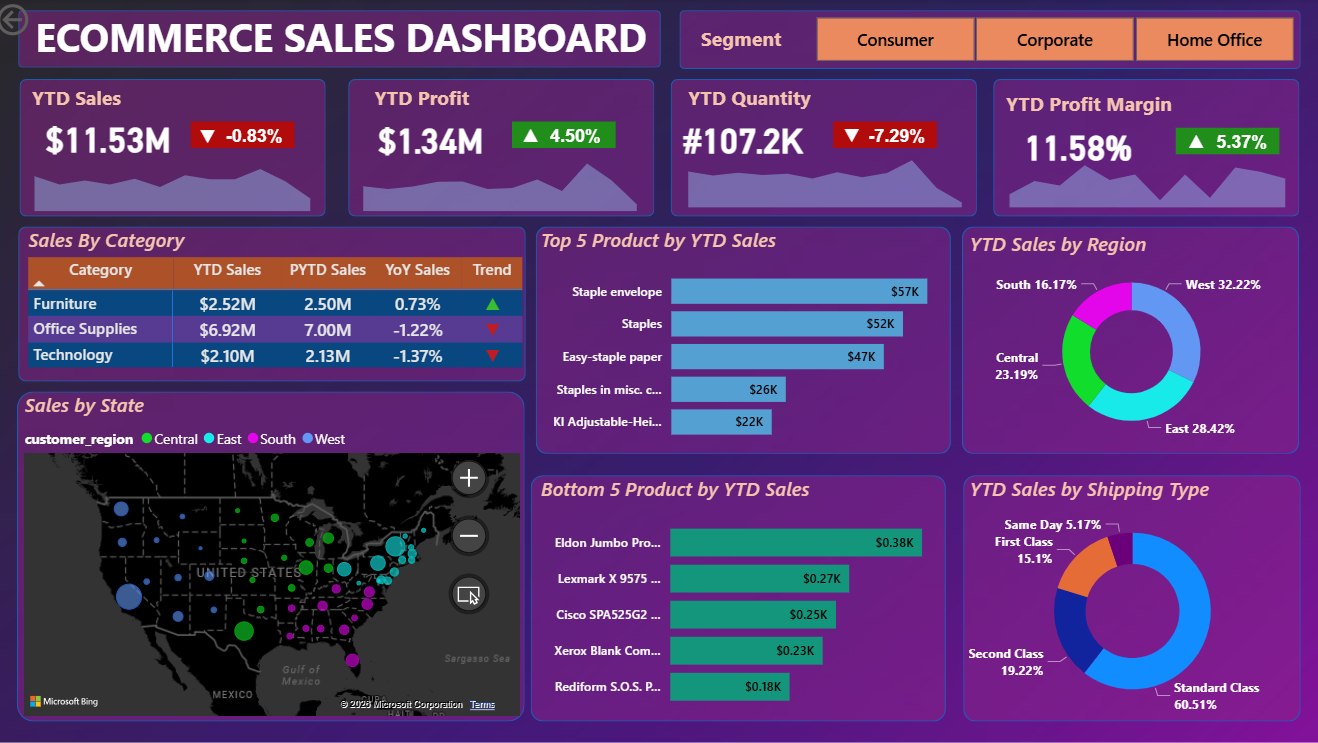

The page's visual inventory and layout, read from the dashboard file:
{"tool":"powerbi","page":{"name":"Page 1","canvas":[1280,720],"ordinal":0},"visuals":[{"type":"shape","box":[25.3,10.9,619.9,55.5],"z":0},{"type":"textbox","box":[26.1,5.5,618.9,60.4],"z":1000},{"type":"shape","box":[26.5,77.2,295.5,132.7],"z":2000},{"type":"card","fields":{"Values":["ecommerce_data.YTD Sales"]},"box":[32.6,111,159.2,45.8],"z":3000},{"type":"shape","box":[191.8,118.2,100.1,25.3],"z":4000},{"type":"areaChart","fields":{"Category":["Calender.Month"],"Y":["Sum(ecommerce_data.sales_per_order)"]},"box":[26.5,143.5,295.5,66.3],"z":5000},{"type":"card","fields":{"Values":["ecommerce_data.YoY Sales"]},"box":[214.7,118.2,77.2,25.3],"z":6000},{"type":"card","fields":{"Values":["ecommerce_data.Sales Icon"]},"box":[191.8,118.2,32.6,32.6],"z":7000},{"type":"textbox","box":[33.8,77.2,103.7,41],"z":8000},{"type":"shape","box":[343.7,77.2,295.5,132.7],"z":9000},{"type":"card","fields":{"Values":["ecommerce_data.YTD Profit"]},"box":[343.7,112.2,159.2,45.8],"z":10000},{"type":"shape","box":[501.8,118.5,100.1,25.3],"z":11000},{"type":"areaChart","fields":{"Category":["Calender.Month"],"Y":["Sum(ecommerce_data.profit_per_order)"]},"box":[343.7,143.5,293.1,66.3],"z":12000},{"type":"card","fields":{"Values":["ecommerce_data.YoY Profit"]},"box":[524.6,118.2,77.2,31.4],"z":13000},{"type":"card","fields":{"Values":["ecommerce_data.Profit Icon"]},"box":[501.7,117,36.2,33.8],"z":14000},{"type":"textbox","box":[364.2,77.2,115.8,41],"z":15000},{"type":"shape","box":[654.9,77.2,295.5,132.7],"z":16000},{"type":"card","fields":{"Values":["ecommerce_data.YTD Cocatenate Qty"]},"box":[647.6,112.2,154.4,45.8],"z":17000},{"type":"shape","box":[811.9,117.9,100.1,25.3],"z":18000},{"type":"areaChart","fields":{"Category":["Calender.Month"],"Y":["Sum(ecommerce_data.order_quantity)"]},"box":[657.3,139.9,293.1,66.3],"z":19000},{"type":"card","fields":{"Values":["ecommerce_data.YoY Qty"]},"box":[834.7,117.6,77.2,32.6],"z":20000},{"type":"card","fields":{"Values":["ecommerce_data.Qty Icon"]},"box":[811.7,118.2,36.2,25.3],"z":21000},{"type":"textbox","box":[666.9,77.2,137.5,41],"z":22000},{"type":"shape","box":[966,77.2,295.5,132.7],"z":23000},{"type":"card","fields":{"Values":["ecommerce_data.YTD Profit Margin"]},"box":[968.4,118.2,159.2,45.8],"z":24000},{"type":"shape","box":[1142.1,124.2,100.1,25.3],"z":25000},{"type":"areaChart","fields":{"Category":["Calender.Month"],"Y":["ecommerce_data.Profit Margin"]},"box":[967.2,139.9,295.5,66.3],"z":26000},{"type":"card","fields":{"Values":["ecommerce_data.YoY Profit Margin"]},"box":[1169.8,124.2,72.4,26.5],"z":27000},{"type":"card","fields":{"Values":["ecommerce_data.Profit Margin Icon"]},"box":[1146.9,125.4,30.2,27.7],"z":28000},{"type":"textbox","box":[968.4,83.2,194.2,41],"z":29000},{"type":"shape","box":[25.3,219.5,489.6,149.5],"z":30000},{"type":"pivotTable","title":"Sales By Category ","fields":{"Rows":["ecommerce_data.category_name"],"Values":["ecommerce_data.YTD Sales","ecommerce_data.PYTD Sales","ecommerce_data.YoY Sales","ecommerce_data.Sales Icon"]},"box":[30.2,219.5,489.6,149.5],"z":31000},{"type":"shape","box":[24.7,378.7,489.9,318.4],"z":32000},{"type":"map","title":"Sales by State","fields":{"Y":["us_state_long_lat_codes.latitude"],"X":["us_state_long_lat_codes.longitude"],"Size":["ecommerce_data.YTD Sales"],"Series":["ecommerce_data.customer_region"]},"box":[26.5,378.7,488.4,318.4],"z":33000},{"type":"actionButton","box":[0,0,100,40],"z":34000},{"type":"shape","box":[524.6,219.5,400.4,219.5],"z":35000},{"type":"shape","box":[519.8,459.5,400.4,237.6],"z":36000},{"type":"barChart","title":"Top 5 Product by YTD Sales  ","fields":{"Category":["ecommerce_data.product_name"],"Y":["ecommerce_data.YTD Sales"]},"box":[524.6,219.5,395.6,219.5],"z":37000},{"type":"barChart","title":"Bottom 5 Product by YTD Sales  ","fields":{"Category":["ecommerce_data.product_name"],"Y":["ecommerce_data.YTD Sales"]},"box":[524.6,459.5,390.8,237.6],"z":38000},{"type":"shape","box":[935.9,219.6,325.2,219.6],"z":39000},{"type":"shape","box":[937.1,459.5,325.6,237.6],"z":40000},{"type":"donutChart","title":"YTD Sales by Region","fields":{"Category":["ecommerce_data.customer_region"],"Y":["ecommerce_data.YTD Sales"]},"box":[938.6,223.7,322.5,209.9],"z":41000},{"type":"donutChart","title":"YTD Sales by Shipping Type","fields":{"Y":["ecommerce_data.YTD Sales"],"Category":["ecommerce_data.shipping_type"]},"box":[938.3,459.5,324.4,237.6],"z":42000},{"type":"shape","box":[663.3,10.9,599.4,56.7],"z":43000},{"type":"slicer","fields":{"Values":["ecommerce_data.customer_segment"]},"box":[769.4,10.9,510.2,55.5],"z":44000},{"type":"textbox","box":[679,20.5,98.9,38.6],"z":45000}]}

Visuals, with their boxes in screenshot pixels (x1, y1, x2, y2), scaled from the page's 1280x720 canvas onto the 1318x743 screenshot:
shape: {"x1": 26, "y1": 11, "x2": 664, "y2": 69}
textbox: {"x1": 27, "y1": 6, "x2": 664, "y2": 68}
shape: {"x1": 27, "y1": 80, "x2": 332, "y2": 217}
card - ecommerce_data.YTD Sales: {"x1": 34, "y1": 115, "x2": 197, "y2": 162}
shape: {"x1": 197, "y1": 122, "x2": 301, "y2": 148}
areaChart - Calender.Month x Sum(ecommerce_data.sales_per_order): {"x1": 27, "y1": 148, "x2": 332, "y2": 217}
card - ecommerce_data.YoY Sales: {"x1": 221, "y1": 122, "x2": 301, "y2": 148}
card - ecommerce_data.Sales Icon: {"x1": 197, "y1": 122, "x2": 231, "y2": 156}
textbox: {"x1": 35, "y1": 80, "x2": 142, "y2": 122}
shape: {"x1": 354, "y1": 80, "x2": 658, "y2": 217}
card - ecommerce_data.YTD Profit: {"x1": 354, "y1": 116, "x2": 518, "y2": 163}
shape: {"x1": 517, "y1": 122, "x2": 620, "y2": 148}
areaChart - Calender.Month x Sum(ecommerce_data.profit_per_order): {"x1": 354, "y1": 148, "x2": 656, "y2": 217}
card - ecommerce_data.YoY Profit: {"x1": 540, "y1": 122, "x2": 620, "y2": 154}
card - ecommerce_data.Profit Icon: {"x1": 517, "y1": 121, "x2": 554, "y2": 156}
textbox: {"x1": 375, "y1": 80, "x2": 494, "y2": 122}
shape: {"x1": 674, "y1": 80, "x2": 979, "y2": 217}
card - ecommerce_data.YTD Cocatenate Qty: {"x1": 667, "y1": 116, "x2": 826, "y2": 163}
shape: {"x1": 836, "y1": 122, "x2": 939, "y2": 148}
areaChart - Calender.Month x Sum(ecommerce_data.order_quantity): {"x1": 677, "y1": 144, "x2": 979, "y2": 213}
card - ecommerce_data.YoY Qty: {"x1": 859, "y1": 121, "x2": 939, "y2": 155}
card - ecommerce_data.Qty Icon: {"x1": 836, "y1": 122, "x2": 873, "y2": 148}
textbox: {"x1": 687, "y1": 80, "x2": 828, "y2": 122}
shape: {"x1": 995, "y1": 80, "x2": 1299, "y2": 217}
card - ecommerce_data.YTD Profit Margin: {"x1": 997, "y1": 122, "x2": 1161, "y2": 169}
shape: {"x1": 1176, "y1": 128, "x2": 1279, "y2": 154}
areaChart - Calender.Month x ecommerce_data.Profit Margin: {"x1": 996, "y1": 144, "x2": 1300, "y2": 213}
card - ecommerce_data.YoY Profit Margin: {"x1": 1205, "y1": 128, "x2": 1279, "y2": 156}
card - ecommerce_data.Profit Margin Icon: {"x1": 1181, "y1": 129, "x2": 1212, "y2": 158}
textbox: {"x1": 997, "y1": 86, "x2": 1197, "y2": 128}
shape: {"x1": 26, "y1": 227, "x2": 530, "y2": 381}
"Sales By Category " pivotTable: {"x1": 31, "y1": 227, "x2": 535, "y2": 381}
shape: {"x1": 25, "y1": 391, "x2": 530, "y2": 719}
"Sales by State" map: {"x1": 27, "y1": 391, "x2": 530, "y2": 719}
actionButton: {"x1": 0, "y1": 0, "x2": 103, "y2": 41}
shape: {"x1": 540, "y1": 227, "x2": 952, "y2": 453}
shape: {"x1": 535, "y1": 474, "x2": 948, "y2": 719}
"Top 5 Product by YTD Sales  " barChart: {"x1": 540, "y1": 227, "x2": 948, "y2": 453}
"Bottom 5 Product by YTD Sales  " barChart: {"x1": 540, "y1": 474, "x2": 943, "y2": 719}
shape: {"x1": 964, "y1": 227, "x2": 1299, "y2": 453}
shape: {"x1": 965, "y1": 474, "x2": 1300, "y2": 719}
"YTD Sales by Region" donutChart: {"x1": 966, "y1": 231, "x2": 1299, "y2": 447}
"YTD Sales by Shipping Type" donutChart: {"x1": 966, "y1": 474, "x2": 1300, "y2": 719}
shape: {"x1": 683, "y1": 11, "x2": 1300, "y2": 70}
slicer - ecommerce_data.customer_segment: {"x1": 792, "y1": 11, "x2": 1317, "y2": 69}
textbox: {"x1": 699, "y1": 21, "x2": 801, "y2": 61}
